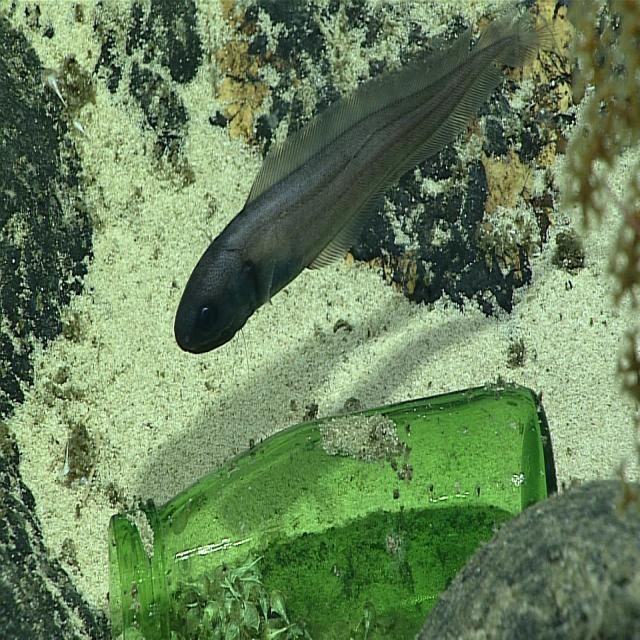Glass: (102, 364, 567, 640)
